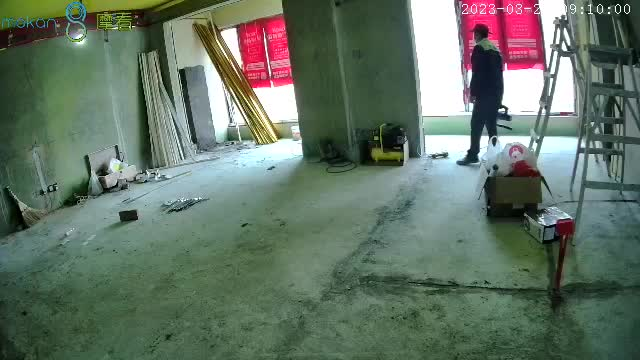people: (456, 23, 504, 166)
window: (411, 1, 580, 119), (219, 27, 295, 122)
